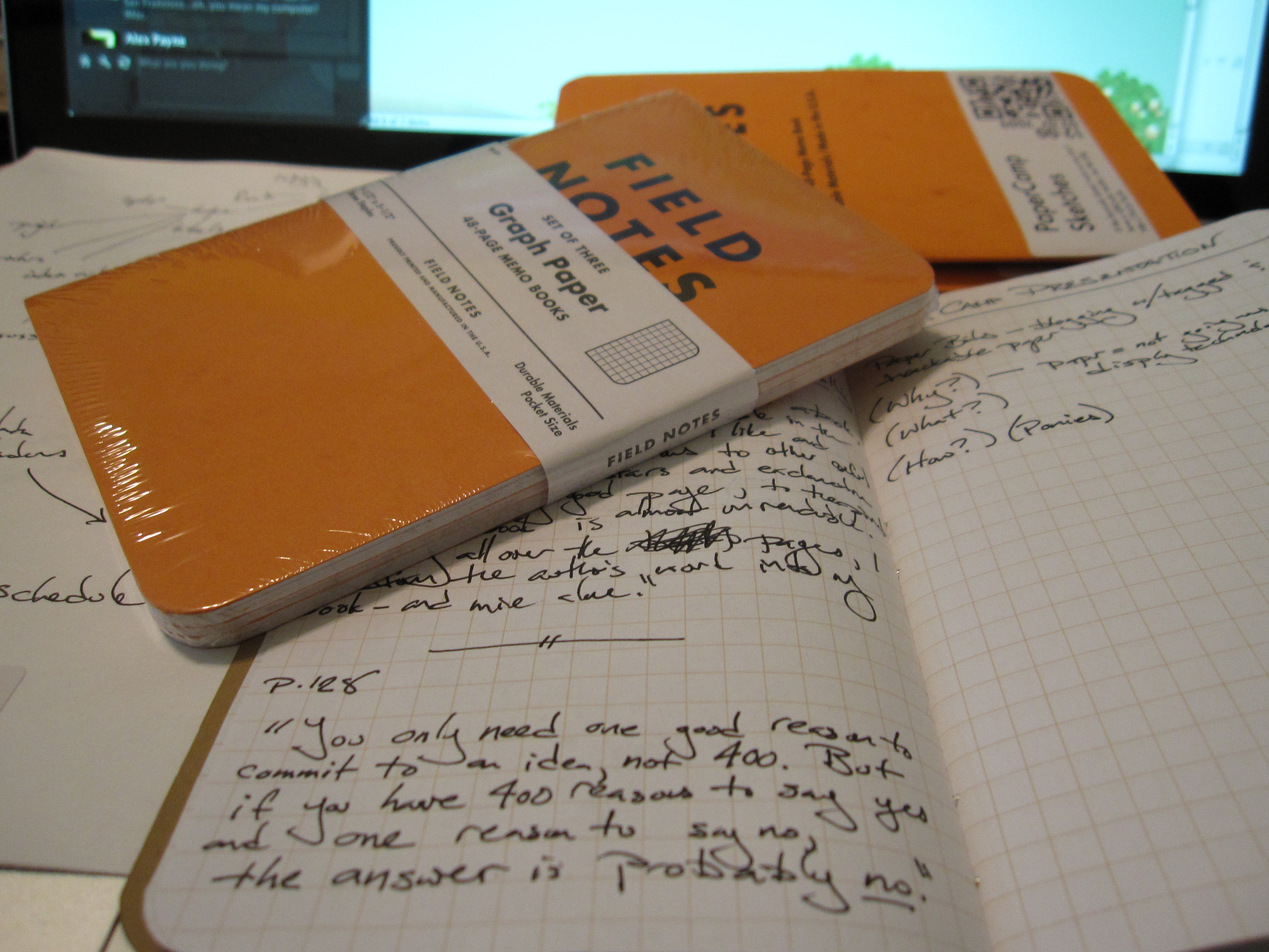QR-CODE: (959, 76, 1074, 118)
